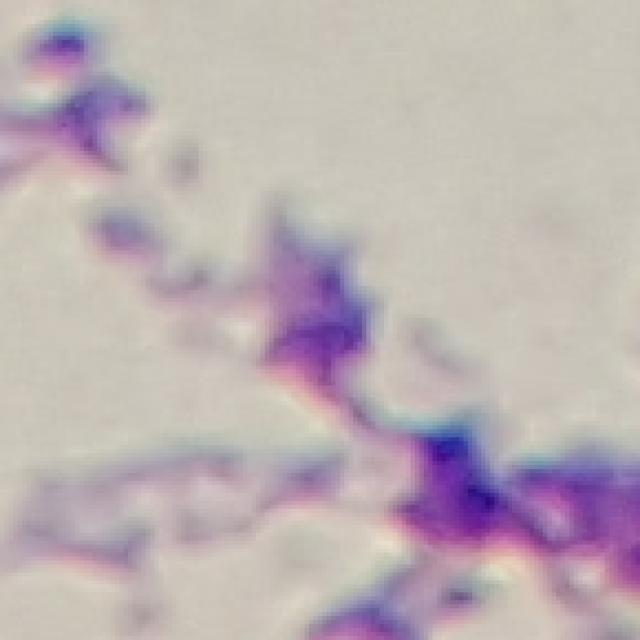non-sperm: (178, 169, 449, 515)
